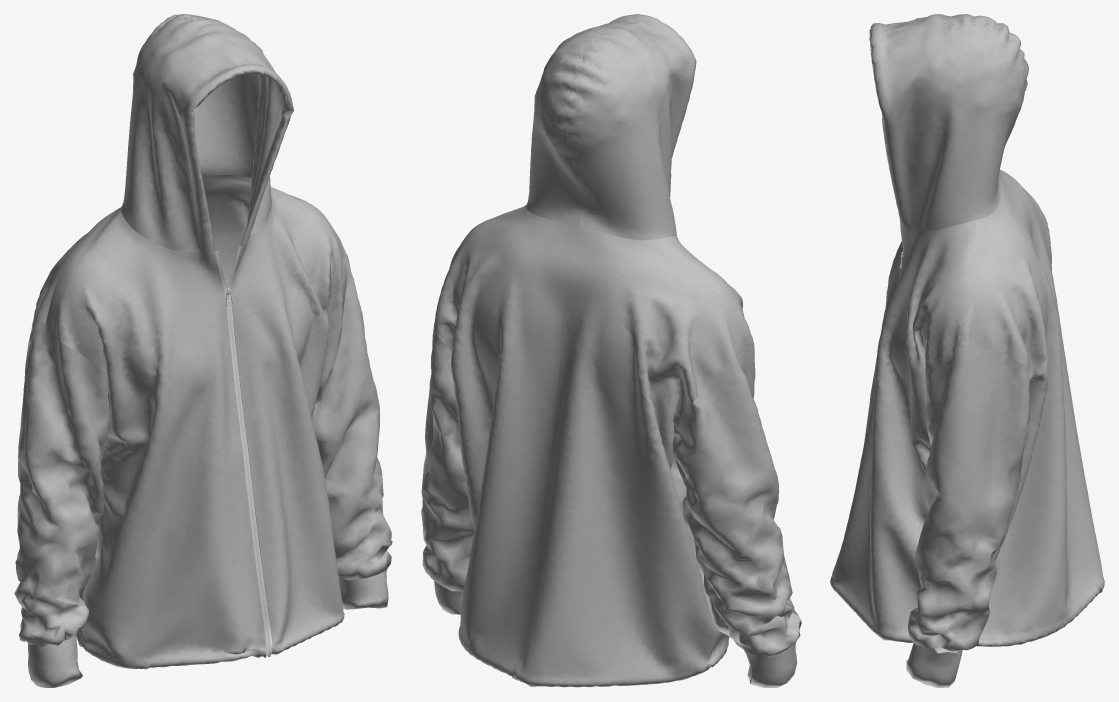
The model's file is hoodie.glb.
The picture shows the model from 3 angles, left to right: view 1: azimuth 30°, elevation 25°; view 2: azimuth 150°, elevation 25°; view 3: azimuth 270°, elevation 25°; orthographic projection. The views are drawn at different scales.
Visible parts, largest first — view 1: Object_8, Object_16, Object_6, Object_5; view 2: Object_8, Object_16; view 3: Object_8, Object_16.
Part boxes in pixels (bbox=[...]): Object_8: bbox=[14, 14, 392, 669]; Object_16: bbox=[28, 570, 388, 687]; Object_6: bbox=[215, 251, 269, 656]; Object_5: bbox=[228, 246, 272, 654]; Object_8: bbox=[421, 14, 801, 687]; Object_16: bbox=[434, 581, 797, 687]; Object_8: bbox=[830, 14, 1104, 653]; Object_16: bbox=[906, 643, 962, 687].
Size of the model in its own units: 0.5339 by 0.8557 by 0.3588.
5 materials, 5 textured.
